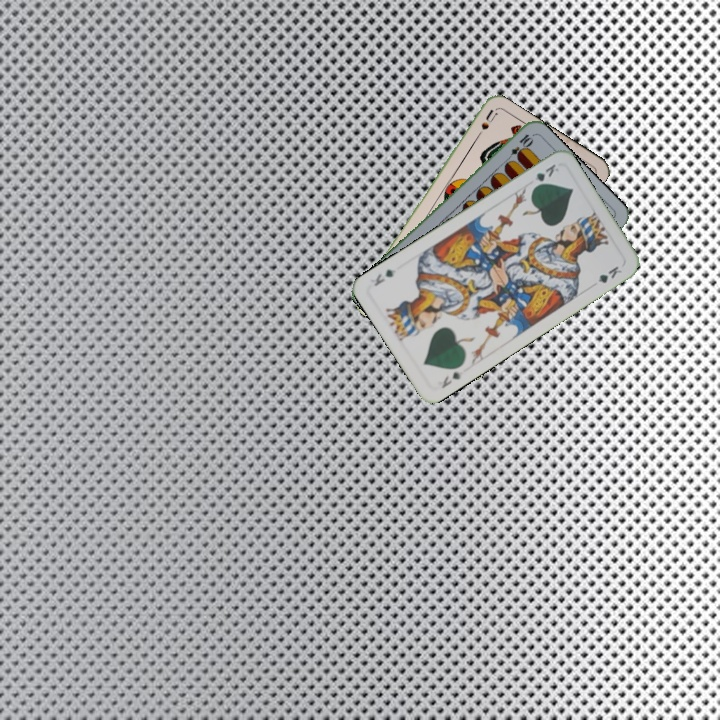E10: (502, 130, 535, 165)
GK: (528, 160, 562, 192), (437, 367, 464, 391)
SU: (470, 106, 499, 144)
